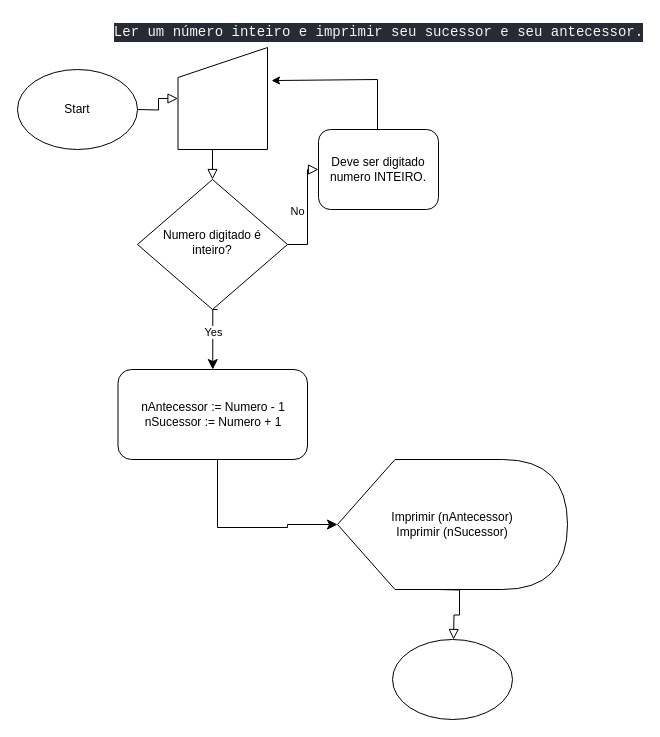
This 660x737 diagram has some shape labels left out. The shapes that lost their labels are listed below. From the top down, each one's box as (x1, y1, x2, y2) in pixels, then its label:
(177, 46, 268, 150): Digite um número INTEIRO
(392, 638, 512, 720): End
